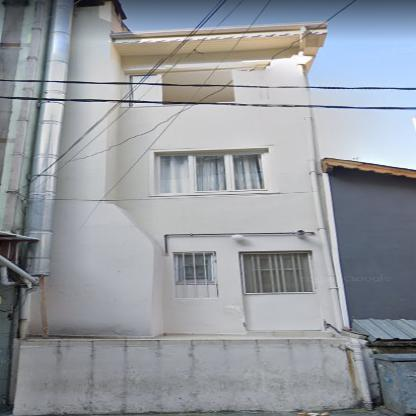door: (241, 252, 320, 330)
window: (157, 153, 271, 194), (177, 253, 212, 283)
